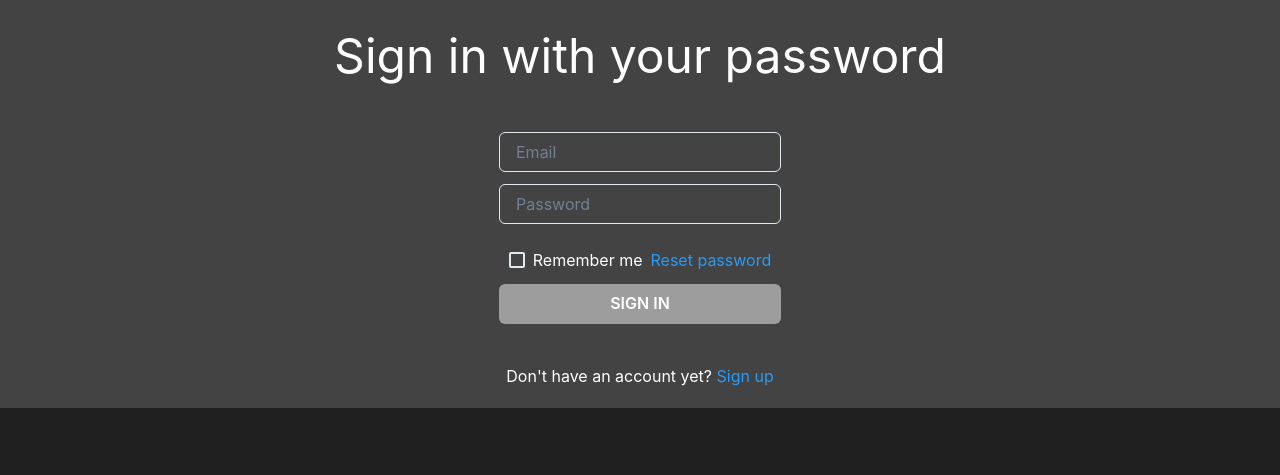
Test case: Login component › checks that error message for no input is being shown
Click the button "Sign in".
click(640, 304)  # box [499,284,781,324]
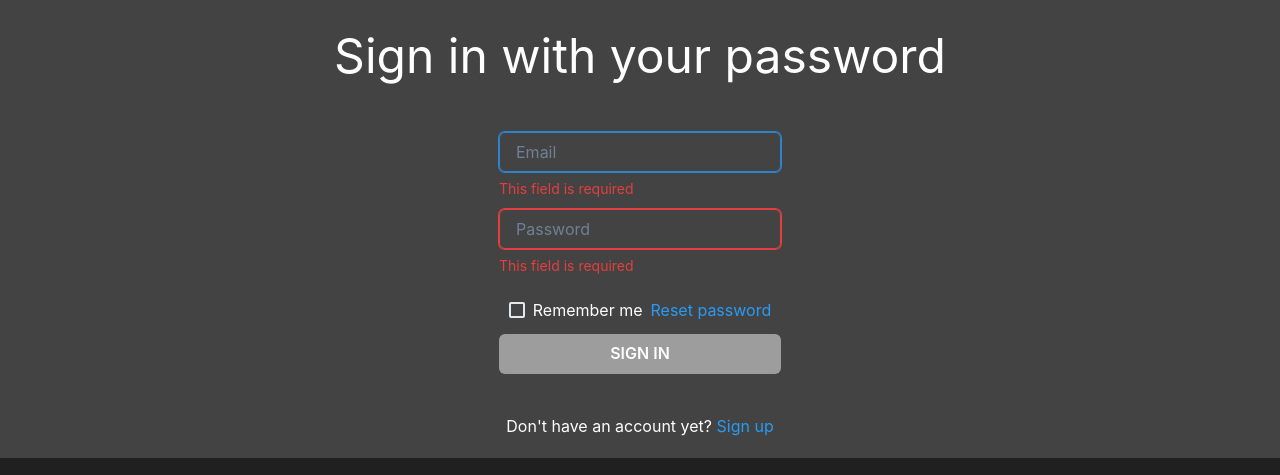
Expected: the text "This field is required" is shown 2 times, [499,180,634,197]; [499,257,634,274]
